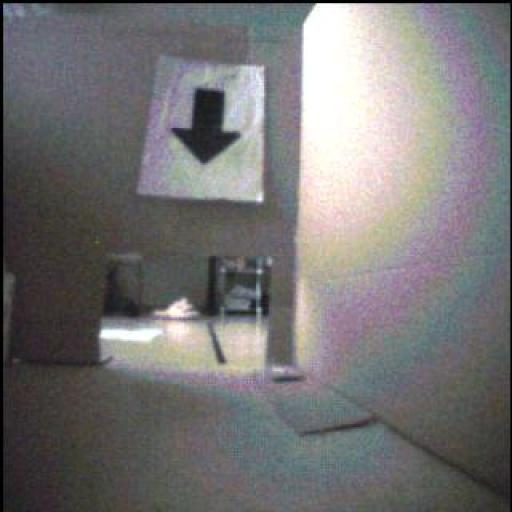arrow: (172, 89, 241, 164)
